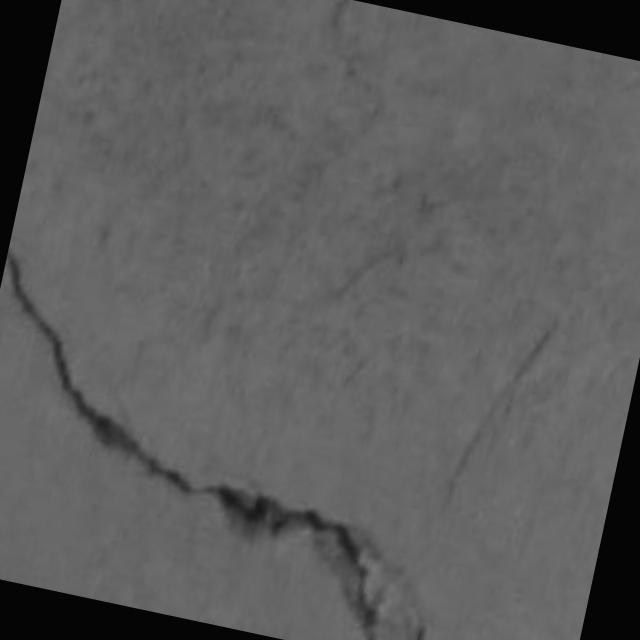crack: (6, 250, 425, 639), (444, 320, 559, 509)
